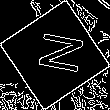N_W: (26, 30, 84, 80)
